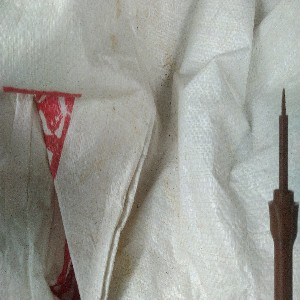solder: (267, 87, 300, 300)
